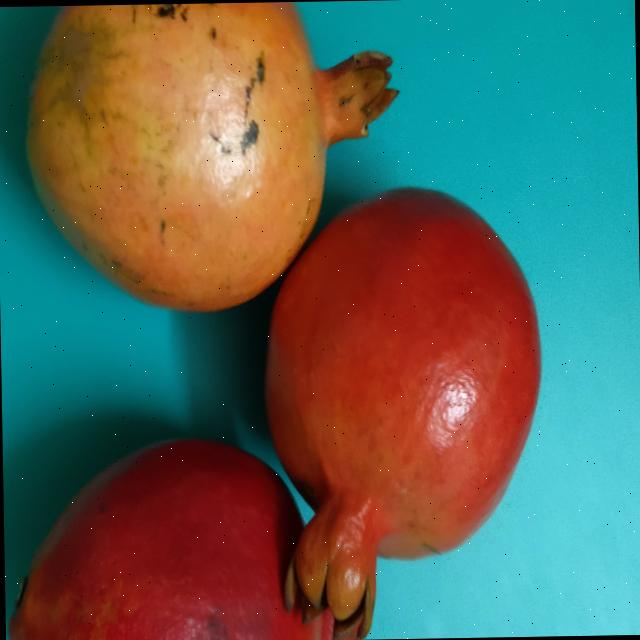Good_Pomegranate 50-60-days: (0, 0, 549, 640)
